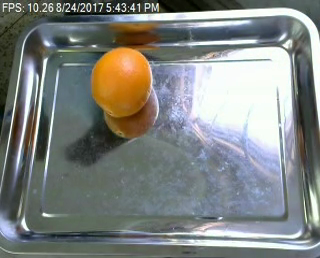Orange: (91, 46, 153, 117)
